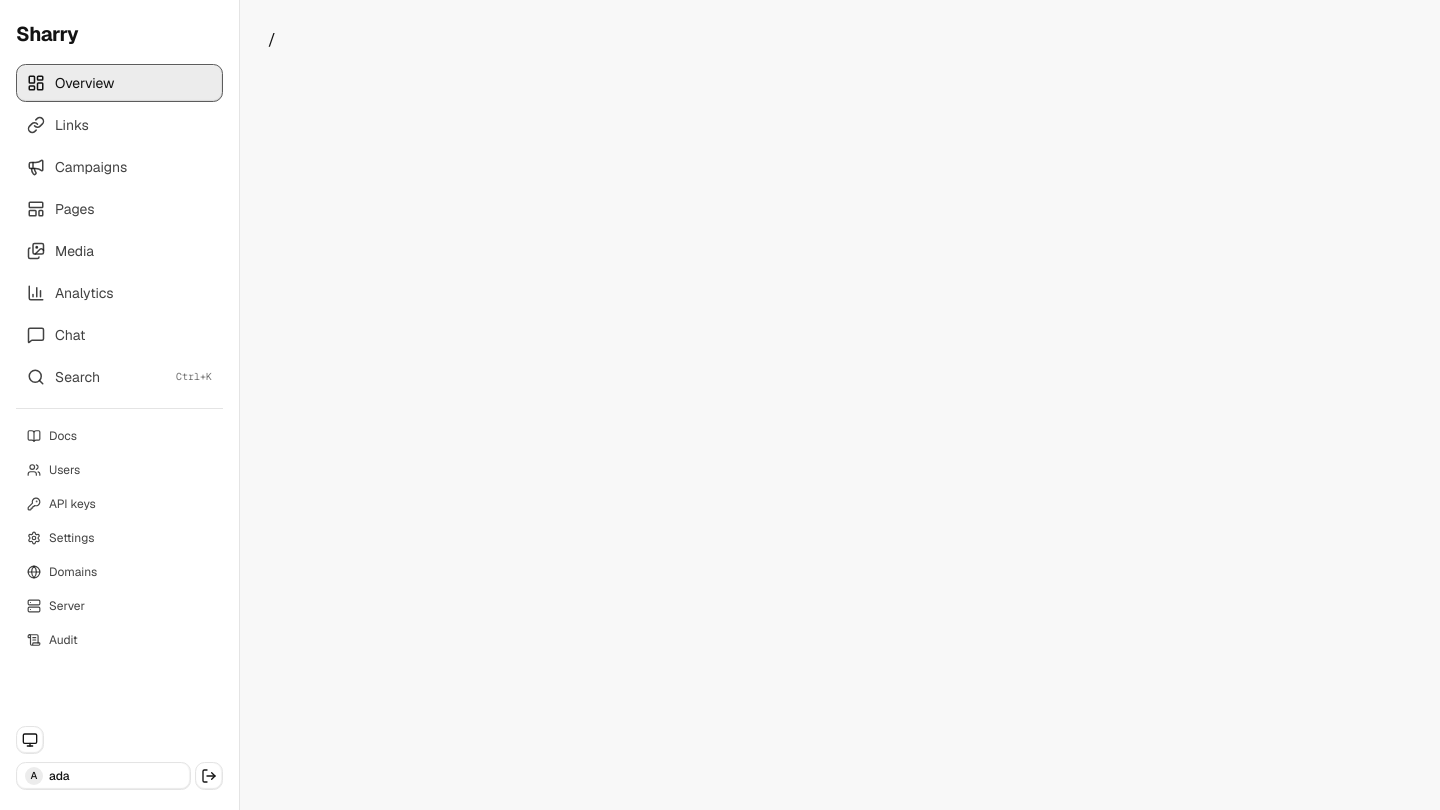
Test case: command menu › shows audit to an administrator
The image size is (1440, 810).
Expected: the link "Audit" is shown, left=27, top=632, right=78, bottom=648
Click the button "Search Ctrl+K". click: (120,377)
box: left=16, top=358, right=223, bottom=396
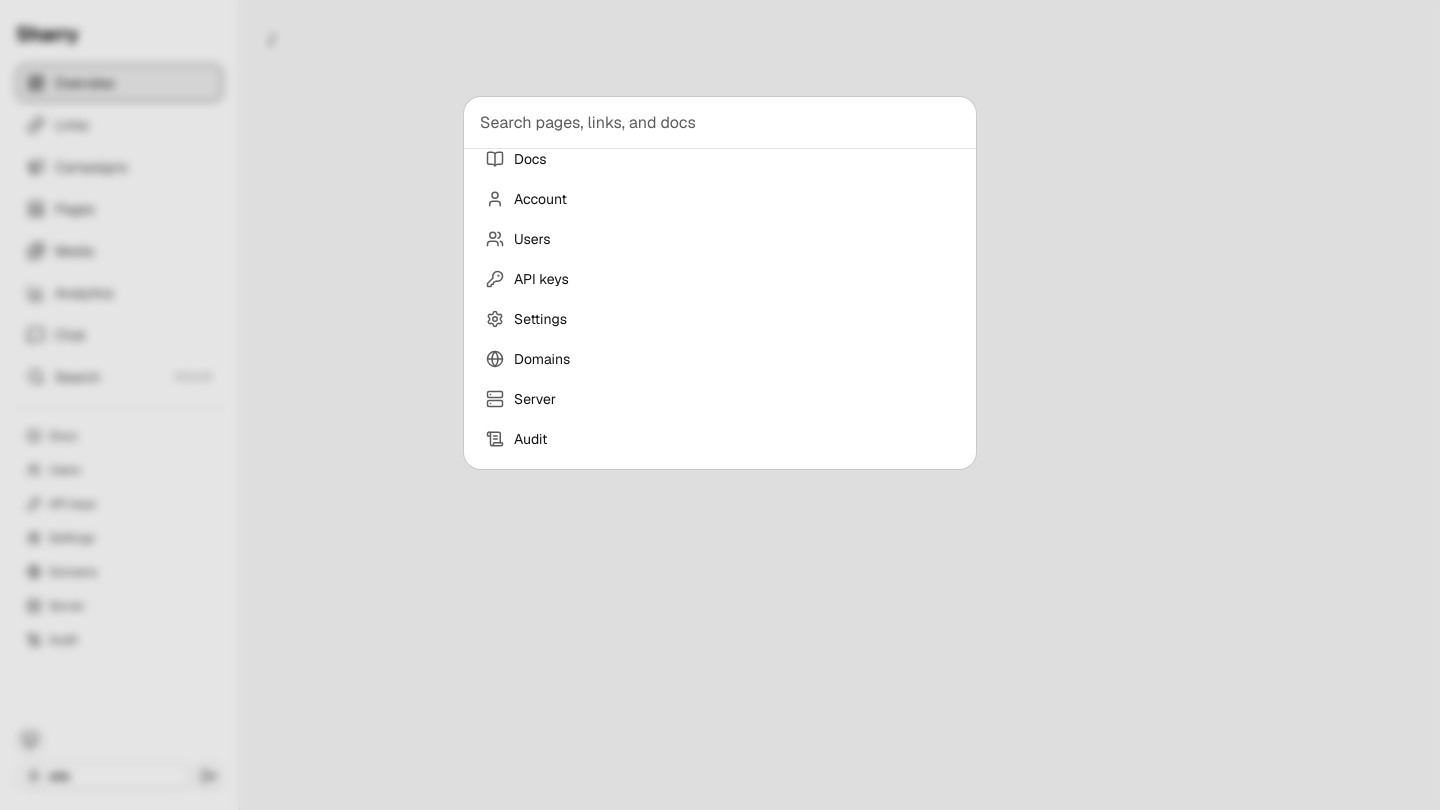
Result: the option "Audit" is shown at left=486, top=430, right=547, bottom=448
